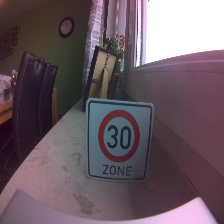dreisiger_zone: (85, 98, 153, 182)
